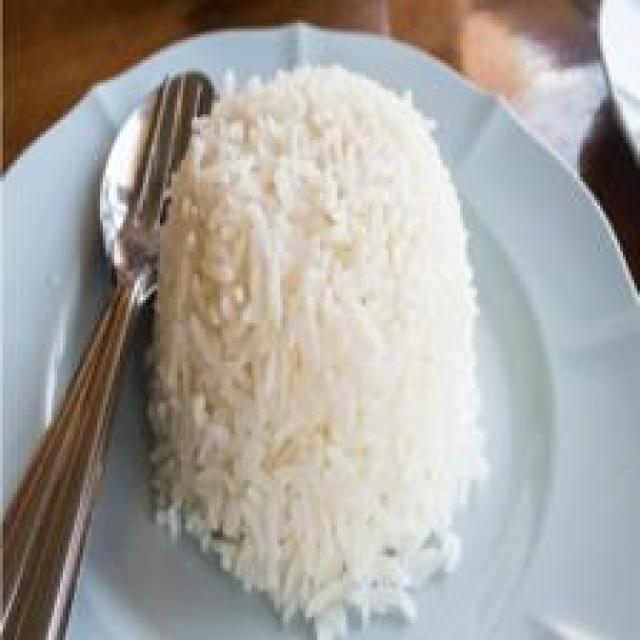Wet Waste: (150, 53, 505, 633)
